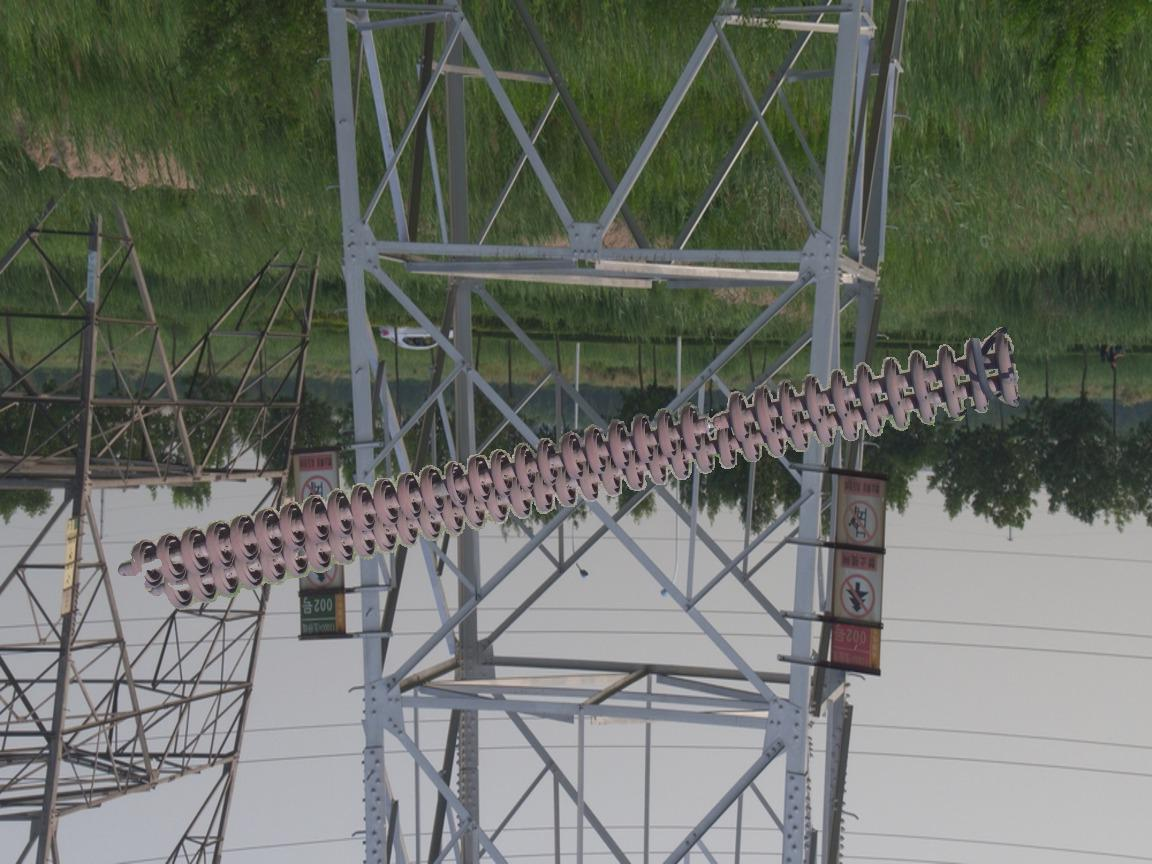insulator: (127, 324, 1027, 613)
insulator_stringdrop: (678, 387, 756, 457)
